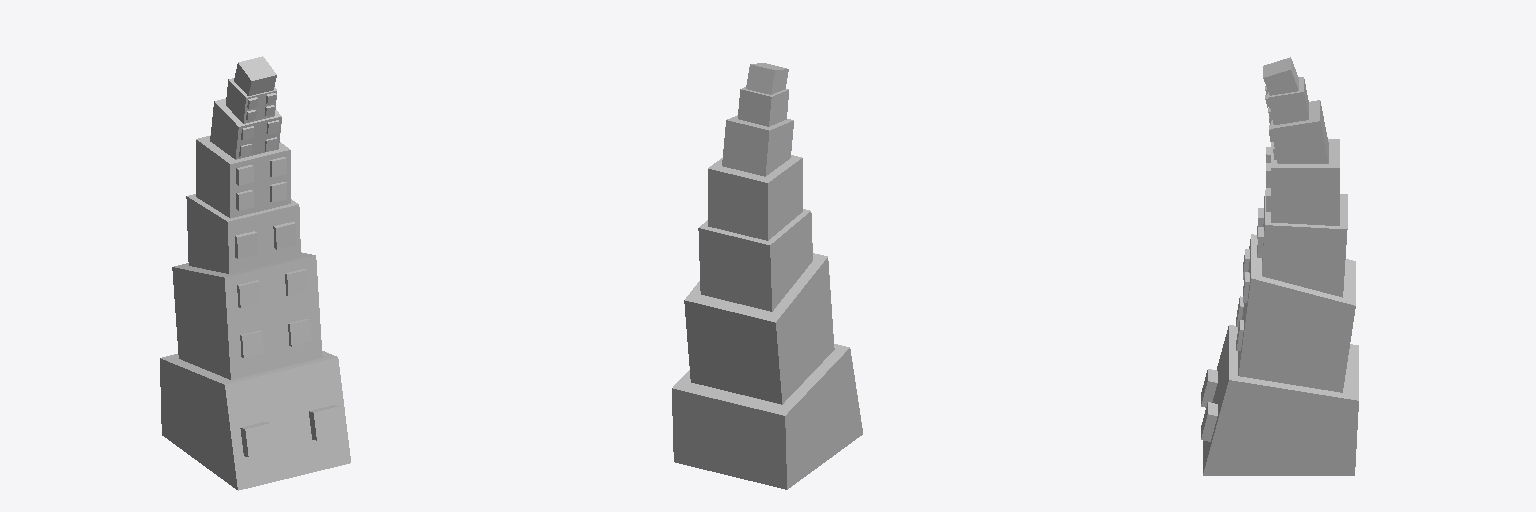
The model's file is octopus.obj.
The picture shows the model from 3 angles: view 1: azimuth 30°, elevation 25°; view 2: azimuth 150°, elevation 25°; view 3: azimuth 270°, elevation 25°; orthographic projection.
Parts seen in each view (by area): view 1: pCube22; view 2: pCube22; view 3: pCube22.
Boxes of the visible parts, x1,y1,x2,y2 form: pCube22: [160, 56, 350, 490]; pCube22: [672, 63, 862, 489]; pCube22: [1201, 57, 1358, 475].
Bounding box in the file's own units: 0.3182 × 1.03 × 0.3843.